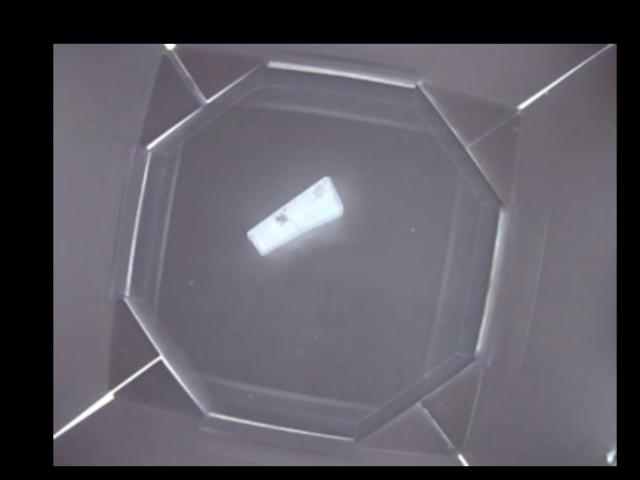China: (244, 174, 342, 255)
